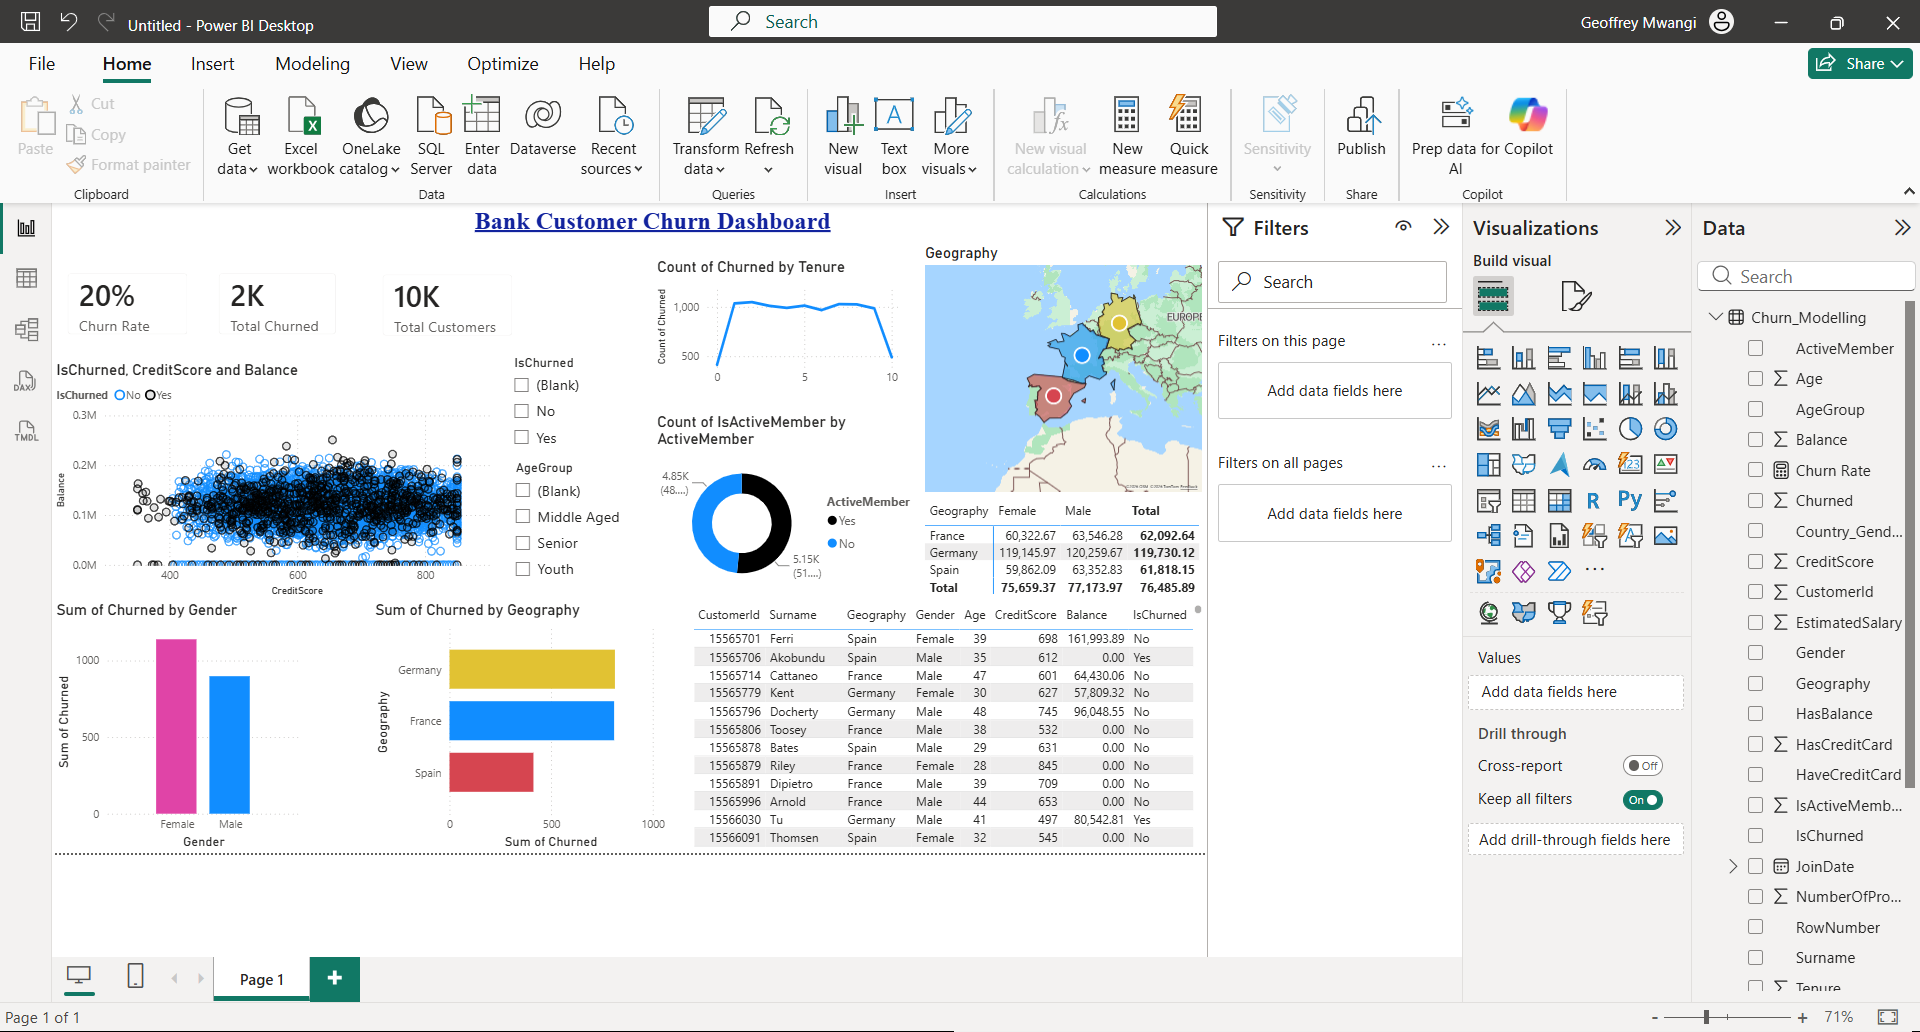

Layout of this report page (visuals, bound fields, positions):
{"tool":"powerbi","page":{"name":"Page 1","canvas":[1280,720],"ordinal":0},"visuals":[{"type":"cardVisual","fields":{"Data":["Churn_Modelling.Total Customers"]},"box":[349,61.9,178.7,102.7],"z":0},{"type":"cardVisual","fields":{"Data":["Churn_Modelling.Total Churned"]},"box":[167.5,60.5,164.7,102.7],"z":1000},{"type":"cardVisual","fields":{"Data":["Churn_Modelling.Churn Rate"]},"box":[0,60.5,167.5,102.7],"z":2000},{"type":"barChart","fields":{"Category":["Churn_Modelling.Geography"],"Y":["Sum(Churn_Modelling.Churned)"]},"box":[353.3,440.5,330.7,280.1],"z":3000},{"type":"clusteredColumnChart","fields":{"Category":["Churn_Modelling.Gender"],"Y":["Sum(Churn_Modelling.Churned)"]},"box":[0,440.5,280.1,280.1],"z":4000},{"type":"lineChart","fields":{"Y":["CountNonNull(Churn_Modelling.Churned)"],"Category":["Churn_Modelling.Tenure"]},"box":[665.7,60.5,280.1,150.6],"z":5000},{"type":"donutChart","fields":{"Y":["CountNonNull(Churn_Modelling.IsActiveMember)"],"Category":["Churn_Modelling.ActiveMember"]},"box":[665.7,232.2,297,208.3],"z":6000},{"type":"tableEx","fields":{"Values":["Churn_Modelling.CustomerId","Churn_Modelling.Surname","Churn_Modelling.Geography","Churn_Modelling.Gender","Churn_Modelling.Age","Churn_Modelling.CreditScore","Churn_Modelling.Balance","Churn_Modelling.IsChurned"]},"box":[705.1,440.5,574.2,280.1],"z":7000},{"type":"pivotTable","fields":{"Rows":["Churn_Modelling.Geography"],"Columns":["Churn_Modelling.Gender"],"Values":["Avg(Churn_Modelling.Balance)"]},"box":[962.7,325.1,316.7,115.4],"z":8000},{"type":"azureMap","fields":{"Category":["Churn_Modelling.Geography"]},"box":[962.7,45,316.7,280.1],"z":9000},{"type":"scatterChart","fields":{"Y":["Churn_Modelling.Balance"],"X":["Churn_Modelling.CreditScore"],"Series":["Churn_Modelling.IsChurned"]},"box":[0,174.5,499.6,266],"z":10000},{"type":"textbox","box":[439.1,0,453.2,45],"z":11000},{"type":"slicer","fields":{"Values":["Churn_Modelling.AgeGroup"]},"box":[501,280.1,139.3,160.4],"z":11001},{"type":"slicer","fields":{"Values":["Churn_Modelling.IsChurned"]},"box":[499.6,163.3,111.2,116.8],"z":11002}]}

Visuals, with their boxes on the page's 1280x720 design canvas (x1, y1, x2, y2). These are canvas units, not pixel positions in the 1920x1032 screenshot, which may show the page scaled, cropped or inside an application window:
cardVisual - Churn_Modelling.Total Customers: [x1=349, y1=62, x2=528, y2=165]
cardVisual - Churn_Modelling.Total Churned: [x1=168, y1=60, x2=332, y2=163]
cardVisual - Churn_Modelling.Churn Rate: [x1=0, y1=60, x2=168, y2=163]
barChart - Churn_Modelling.Geography x Sum(Churn_Modelling.Churned): [x1=353, y1=440, x2=684, y2=721]
clusteredColumnChart - Churn_Modelling.Gender x Sum(Churn_Modelling.Churned): [x1=0, y1=440, x2=280, y2=721]
lineChart - CountNonNull(Churn_Modelling.Churned) x Churn_Modelling.Tenure: [x1=666, y1=60, x2=946, y2=211]
donutChart - CountNonNull(Churn_Modelling.IsActiveMember) x Churn_Modelling.ActiveMember: [x1=666, y1=232, x2=963, y2=440]
tableEx - Churn_Modelling.CustomerId x Churn_Modelling.Surname: [x1=705, y1=440, x2=1279, y2=721]
pivotTable - Churn_Modelling.Geography x Churn_Modelling.Gender: [x1=963, y1=325, x2=1279, y2=440]
azureMap - Churn_Modelling.Geography: [x1=963, y1=45, x2=1279, y2=325]
scatterChart - Churn_Modelling.Balance x Churn_Modelling.CreditScore: [x1=0, y1=174, x2=500, y2=440]
textbox: [x1=439, y1=0, x2=892, y2=45]
slicer - Churn_Modelling.AgeGroup: [x1=501, y1=280, x2=640, y2=440]
slicer - Churn_Modelling.IsChurned: [x1=500, y1=163, x2=611, y2=280]
